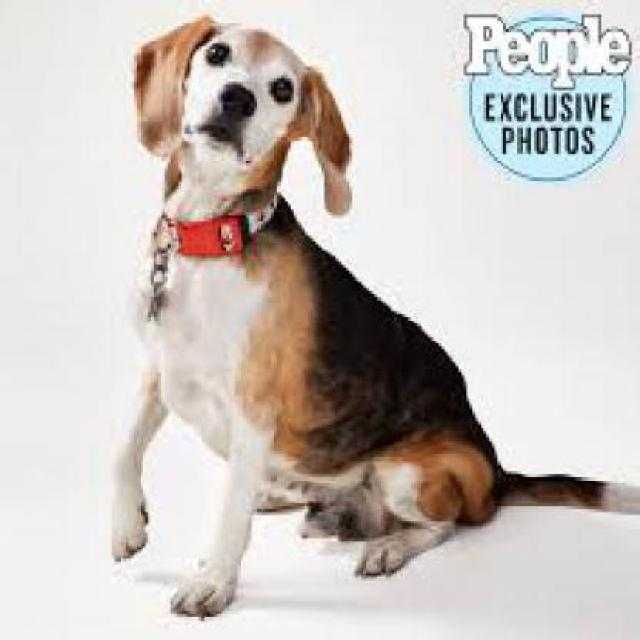Dog: (107, 16, 638, 622)
